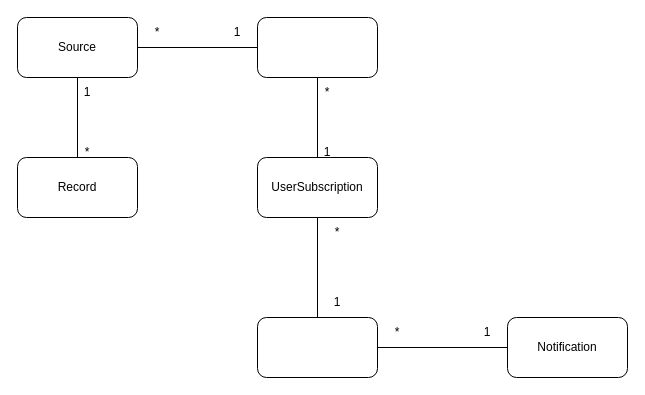
Image size: 645x395. Some labels were removed from this diagram. The shapes that lost their labels are listed below. From the top down, each one's box as (x1, y1, x2, y2) in pixels, then its label:
(256, 16, 378, 78): SearchQuery
(256, 316, 378, 378): User
